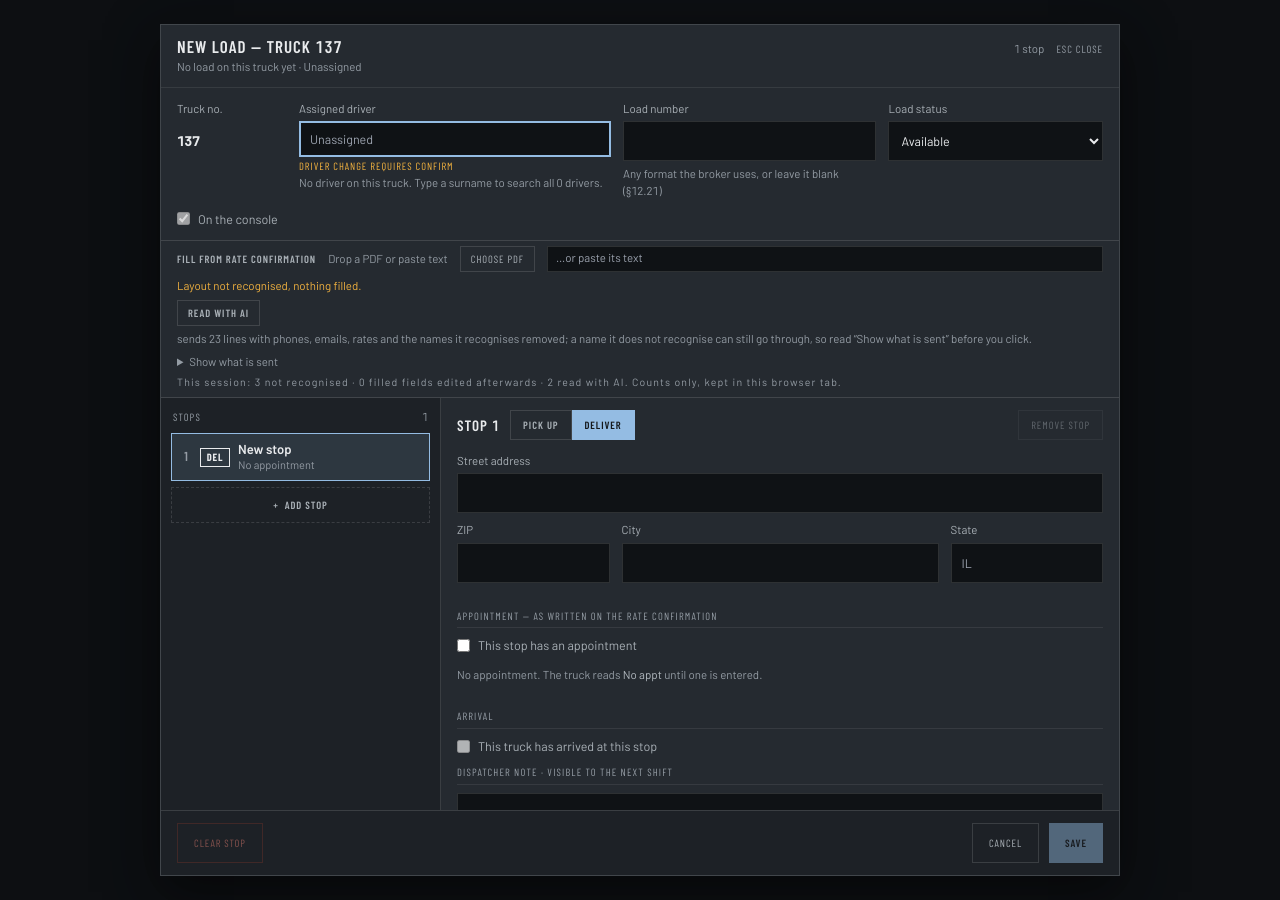
it: a read is a pair of reads, merged by agreement › a pair that failed fills NOTHING, says the AI read did not complete with the code's own sentence, and leaves the button
Click the button "Read with AI" at coordinates (219, 313), box x1=177 y1=300 x2=260 y2=326
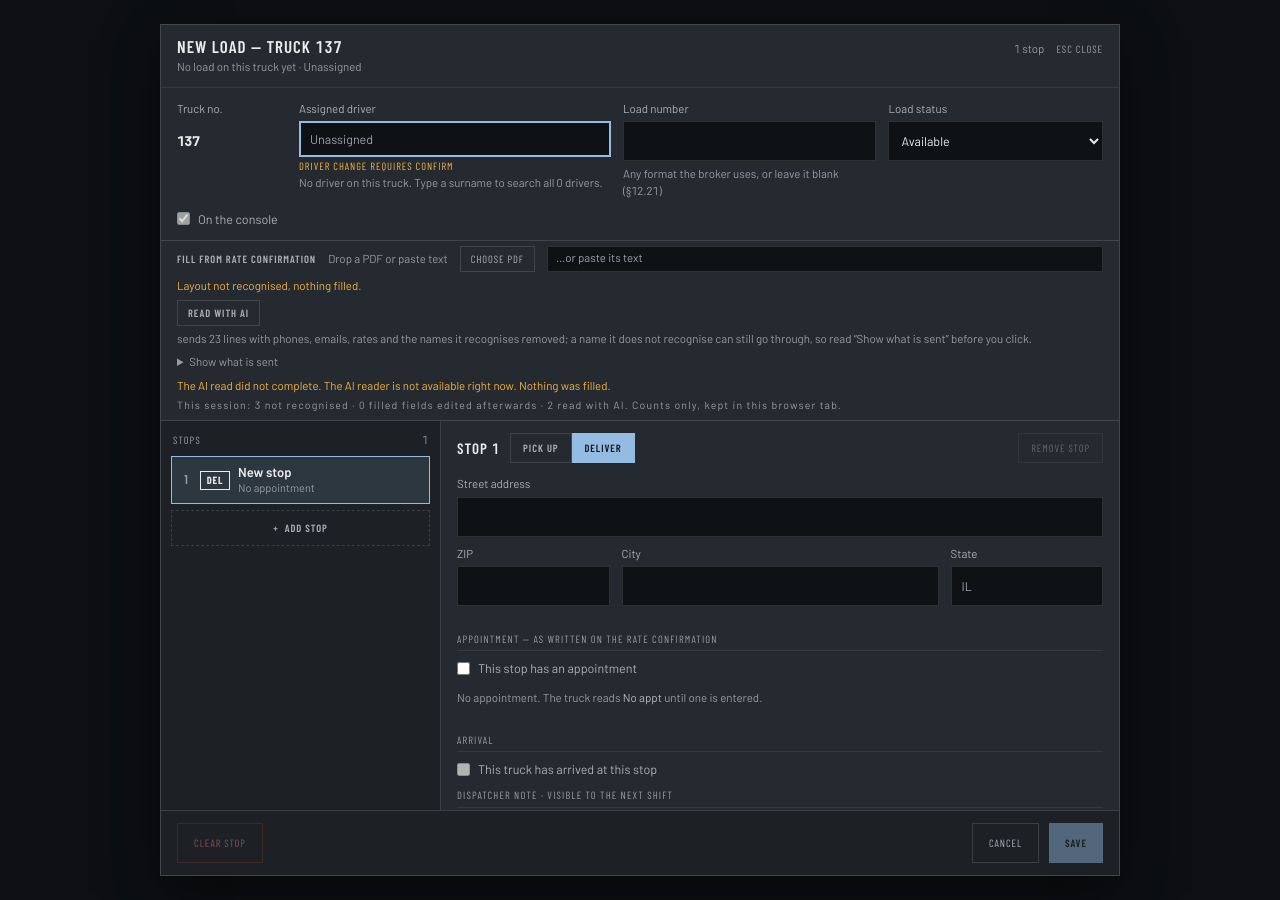
Expected: the 1st field is empty, x1=623 y1=121 x2=876 y2=161
Expected: the text "The AI read did not complete. The AI reader is not available right now. Nothing was filled." is shown, x1=177 y1=378 x2=611 y2=392
